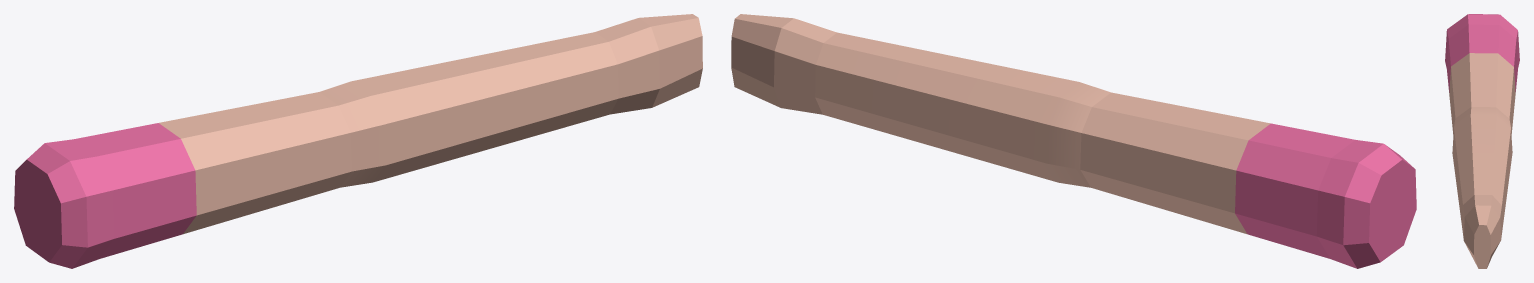
File: player_right_arm.fbx
3 renders of one model, left to right at view 1: azimuth 30°, elevation 25°; view 2: azimuth 150°, elevation 25°; view 3: azimuth 270°, elevation 25°, orthographic. The views are drawn at different scales.
Visible parts, largest first — view 1: pPlane4; view 2: pPlane4; view 3: pPlane4.
Part boxes in pixels (x1,y1,x2,y2): pPlane4: (14,14,702,268); pPlane4: (731,14,1416,268); pPlane4: (1445,14,1519,268).
Bounding box in the file's own units: 3.45 × 0.5341 × 0.5326.
